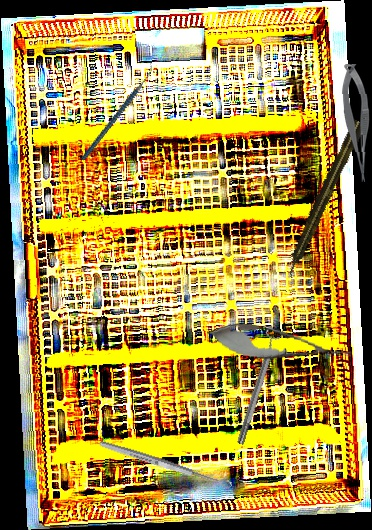Chopper: (57, 60, 178, 161)
Fixation Ring: (230, 324, 286, 447)
Handpiece: (280, 118, 368, 280)
Micro Scissor: (204, 316, 355, 372), (340, 63, 372, 183)
Surgical Spoon: (98, 438, 233, 491)
